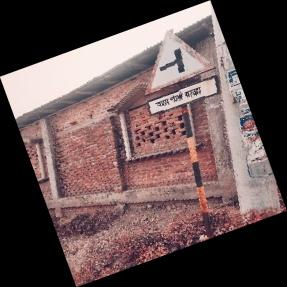Side-road-left: (144, 29, 216, 117)
